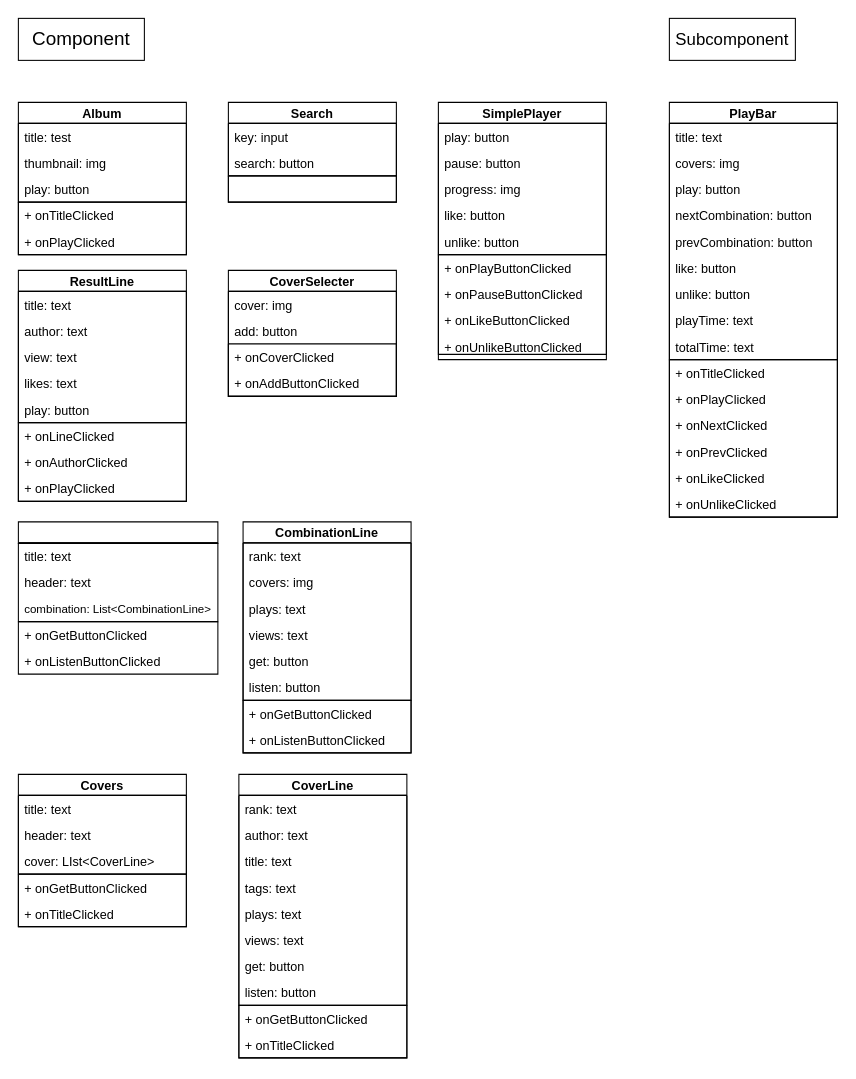
Image size: 856x1079. Some labels were removed from this diagram. The shapes that lost their labels are listed below. From the top down, each one's centre as x and y in pixels, then its label:
At (x=311, y=188): "+ onSearchClicked".
At (x=117, y=532): "TopCombinations".
